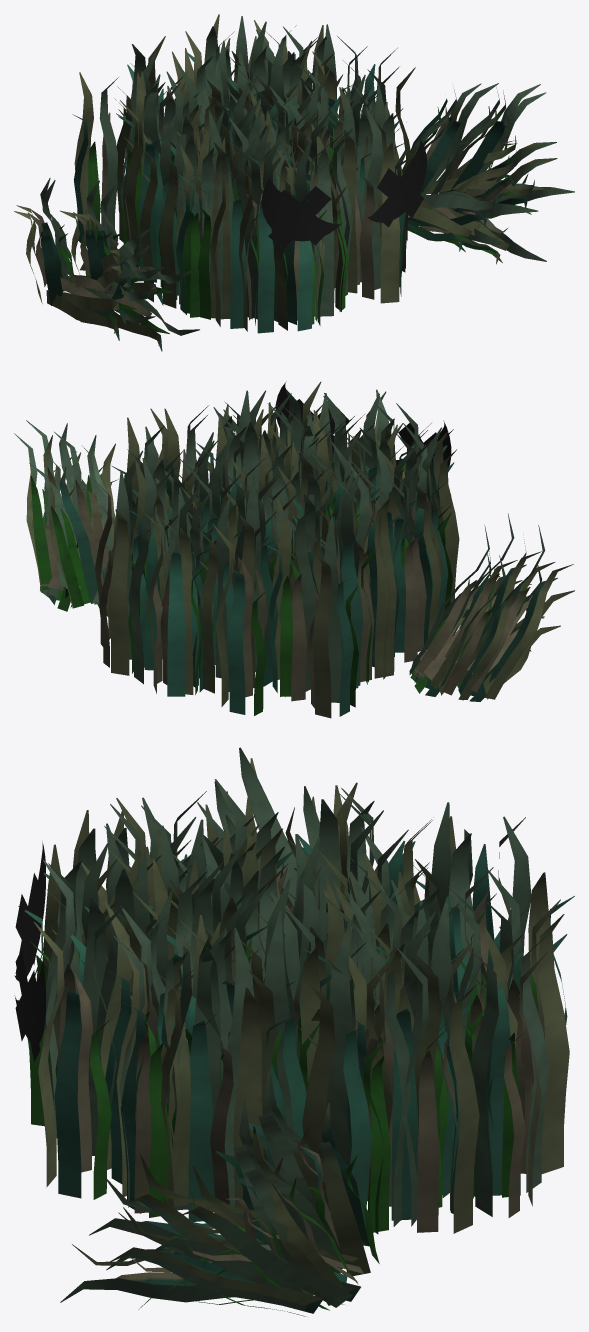
File: Grass_Monster.fbx
3 views of the same model, one above another, from view 1: azimuth 30°, elevation 25°; view 2: azimuth 150°, elevation 25°; view 3: azimuth 270°, elevation 25° (orthographic). The views are drawn at different scales.
Parts seen in each view (by area): view 1: body, left, right, eye_x, eye; view 2: body, right, left, eye, eye_x; view 3: body, left, right, eye_x, eye.
Part boxes in pixels (x1,y1,x2,y2): body: (72, 14, 415, 333); left: (402, 83, 574, 264); right: (14, 178, 199, 351); eye_x: (268, 158, 423, 248); eye: (261, 138, 426, 241); body: (92, 381, 459, 718); right: (409, 513, 574, 701); left: (14, 420, 118, 616); eye: (275, 381, 451, 484); eye_x: (297, 399, 436, 487); body: (18, 779, 574, 1234); left: (60, 1068, 379, 1316); right: (129, 747, 319, 914); eye_x: (15, 873, 40, 1062); eye: (14, 842, 45, 1043).
Size of the model in its own units: 12.61 by 4.66 by 7.44.
